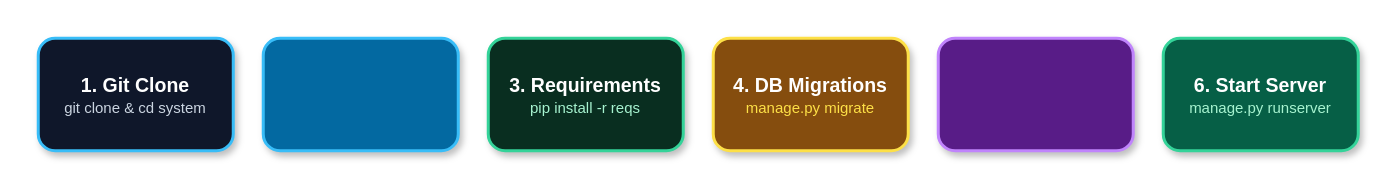
Some shapes in this 1394 by 188 pixel diagram are drawn without their labels. The shapes that lost their labels are listed below. From the top down, each one's centre as x and y in pixels, then its label:
the point at 361,96: 2. Virtual Env python -m venv env
the point at 1036,96: 5. Run Tests manage.py test
